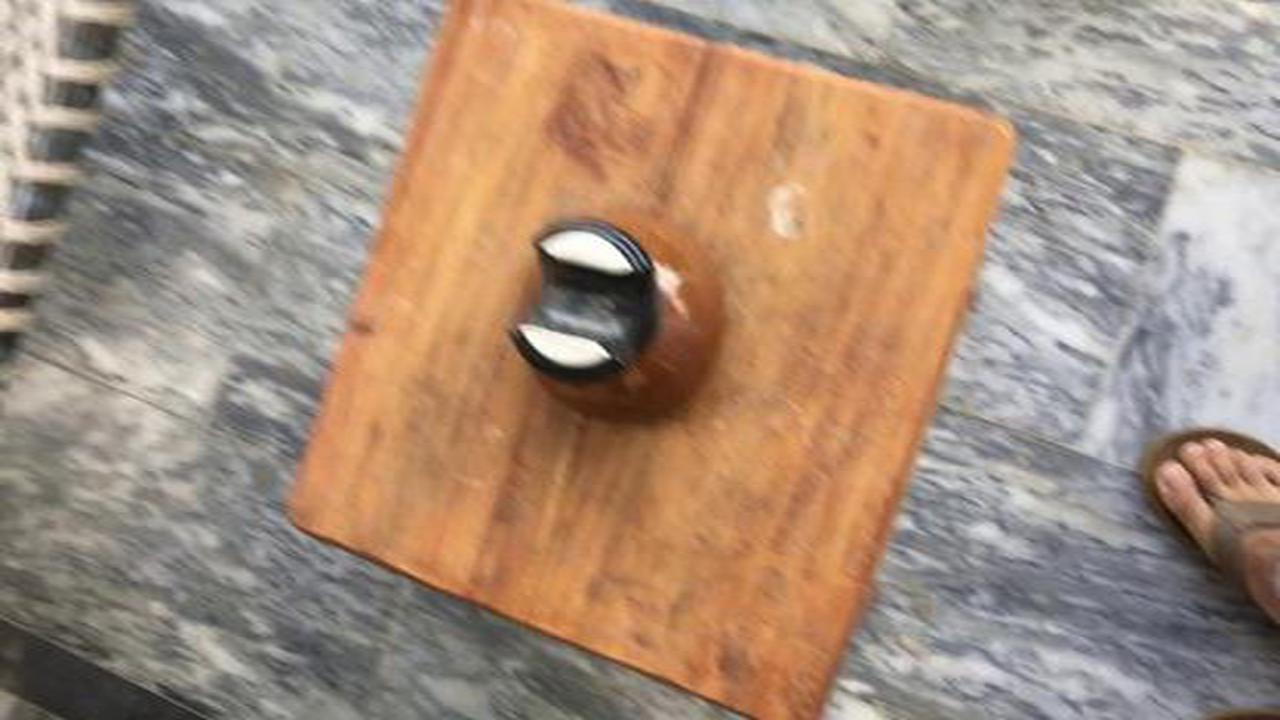insulator_pin: (490, 210, 742, 437)
